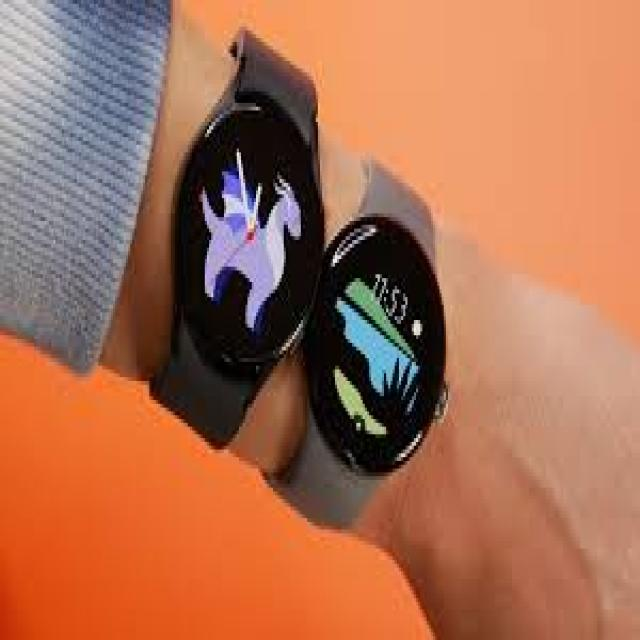objects: (170, 68, 320, 387), (296, 204, 453, 478)
